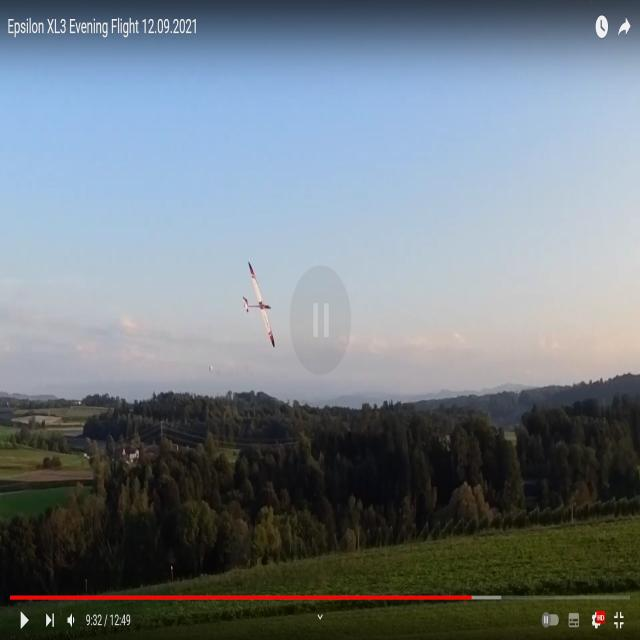iha: (245, 286, 276, 316)
